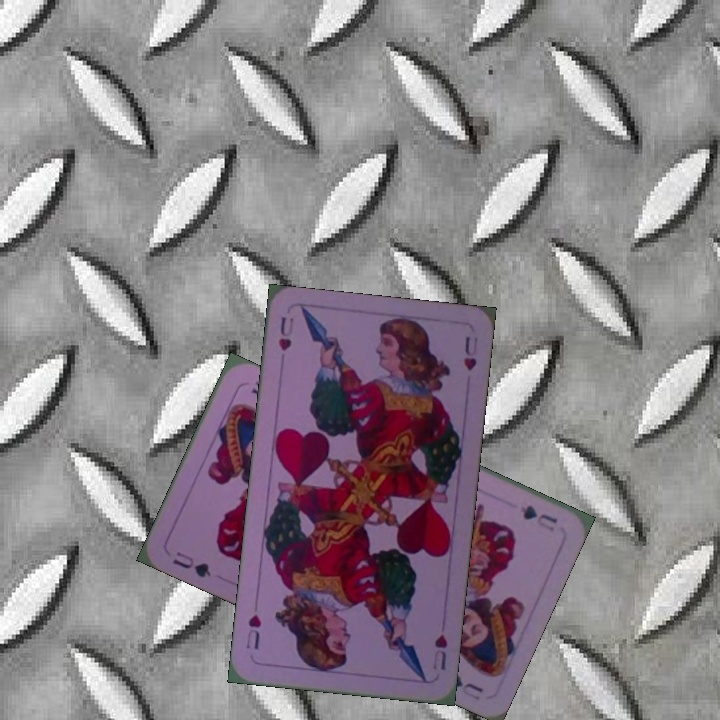GU: (168, 547, 214, 581), (516, 500, 560, 534)
HU: (274, 312, 296, 354), (430, 630, 450, 673)
